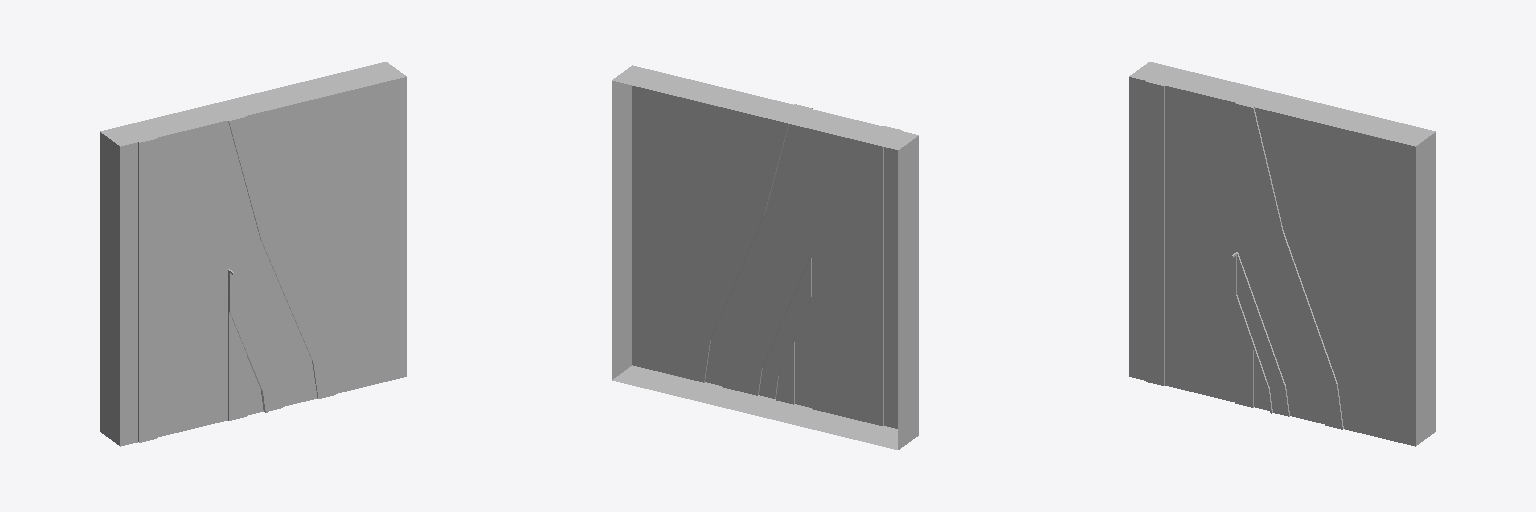
Rendered from track-pit-exit-large.obj.
The picture shows the model from 3 angles: view 1: azimuth 30°, elevation 25°; view 2: azimuth 150°, elevation 25°; view 3: azimuth 330°, elevation 25°; orthographic projection.
Visible parts, largest first — view 1: track-pit-exit-large_Cube.030; view 2: track-pit-exit-large_Cube.030; view 3: track-pit-exit-large_Cube.030.
Part boxes in pixels (x1,y1,x2,y2): track-pit-exit-large_Cube.030: (100, 62, 406, 446); track-pit-exit-large_Cube.030: (612, 65, 918, 449); track-pit-exit-large_Cube.030: (1129, 62, 1435, 446).
Bounding box in the file's own units: 16 × 16 × 2.5.